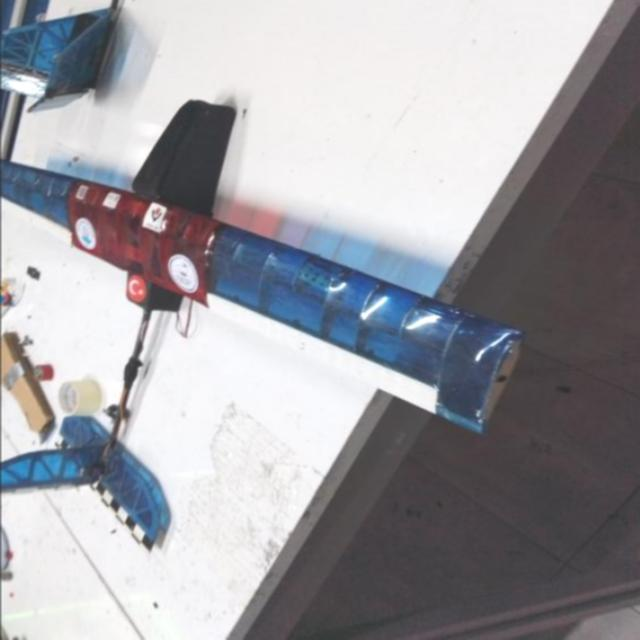plane: (0, 100, 523, 554)
